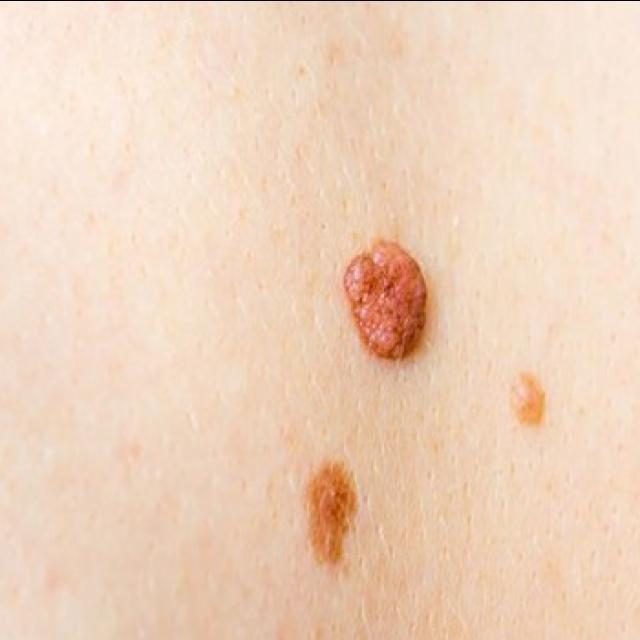wart: (338, 238, 426, 360), (506, 366, 548, 430)
